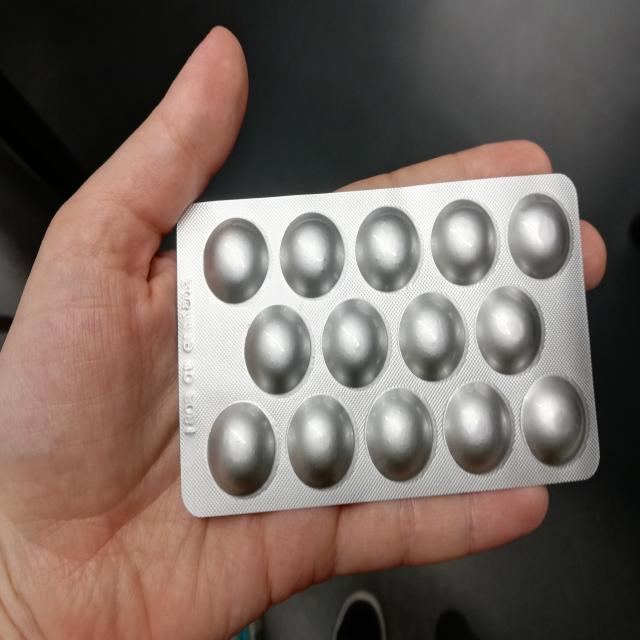Pill: (443, 384, 519, 484), (204, 400, 279, 498), (240, 306, 320, 396), (397, 293, 475, 385), (364, 389, 436, 485), (285, 394, 354, 492), (475, 285, 543, 382), (432, 191, 500, 287), (507, 189, 578, 280), (198, 209, 266, 304), (325, 298, 396, 387), (350, 208, 424, 292), (280, 209, 344, 300), (524, 383, 588, 474)
